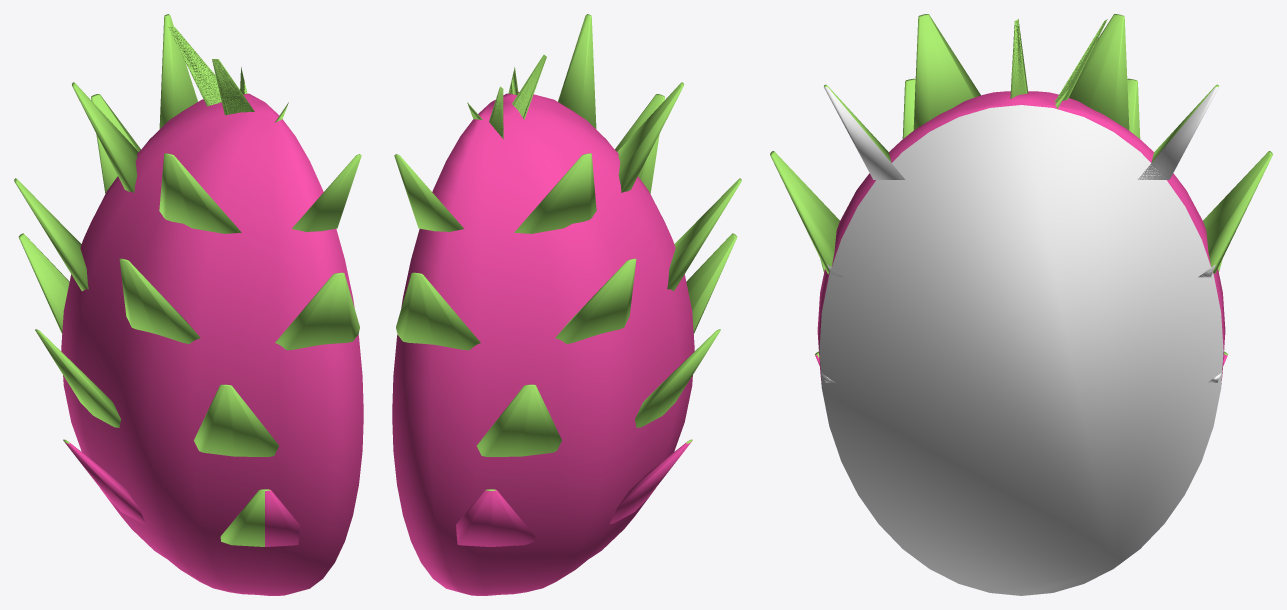
The model's file is Dragonfruit_Half_B.fbx.
3 views of the same model, side by side, from view 1: azimuth 30°, elevation 25°; view 2: azimuth 150°, elevation 25°; view 3: azimuth 270°, elevation 25° (orthographic). The views are drawn at different scales.
Visible parts, largest first — view 1: Dragonfruit_Half_B; view 2: Dragonfruit_Half_B; view 3: Dragonfruit_Half_B.
Boxes of the visible parts, x1=… form: Dragonfruit_Half_B: x1=14, y1=14, x2=363, y2=595; Dragonfruit_Half_B: x1=392, y1=14, x2=741, y2=595; Dragonfruit_Half_B: x1=770, y1=14, x2=1272, y2=595.
Bounding box in the file's own units: 0.6026 × 1.35 × 1.12.
